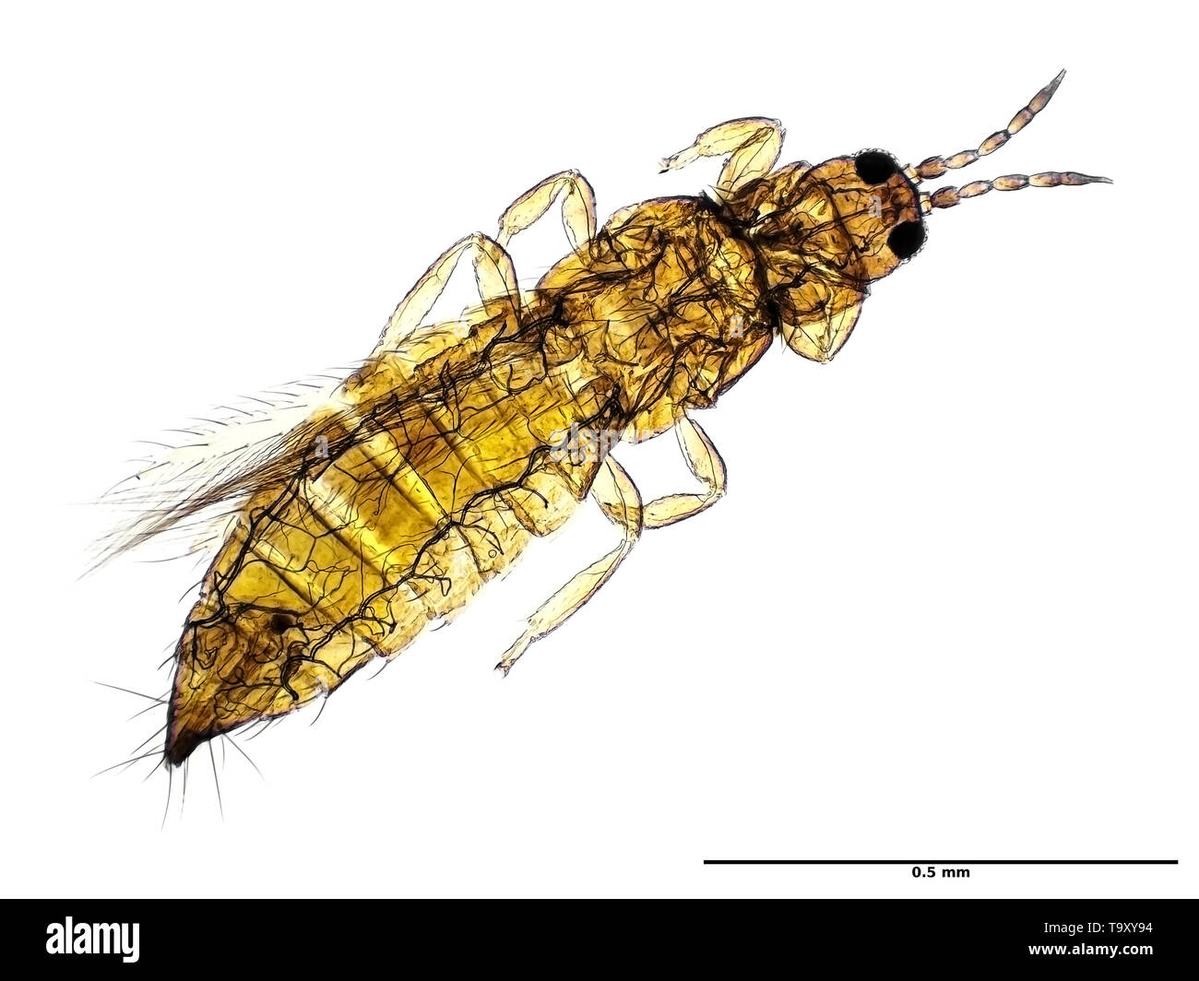Thripidae: (53, 55, 1117, 807)
